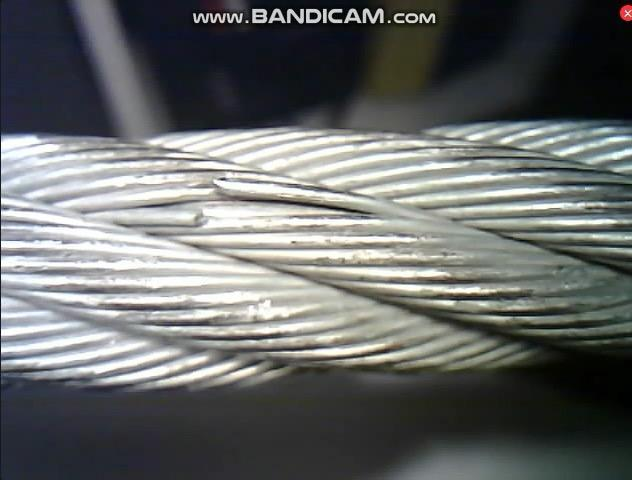break: (163, 173, 244, 246)
